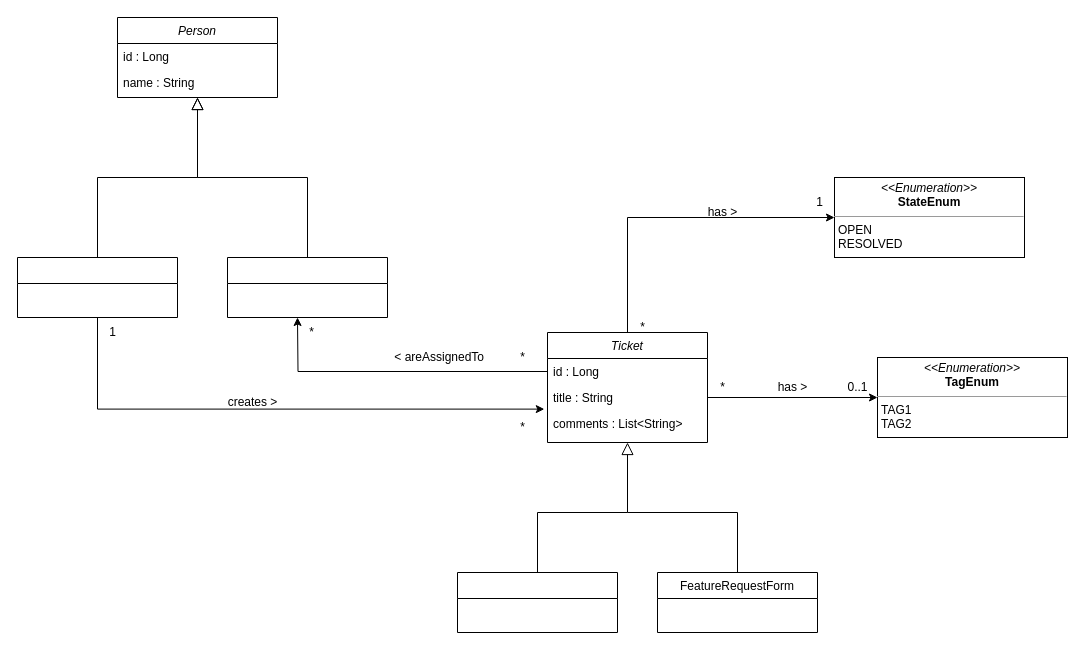
Image size: 1085x650. Some labels were removed from this diagram. The shapes that lost their labels are listed below. From the top down, each one's centre as x and y in pixels, then its label:
At point (97, 287): "User".
At point (307, 287): "SupportMember".
At point (537, 602): "BugForm".
